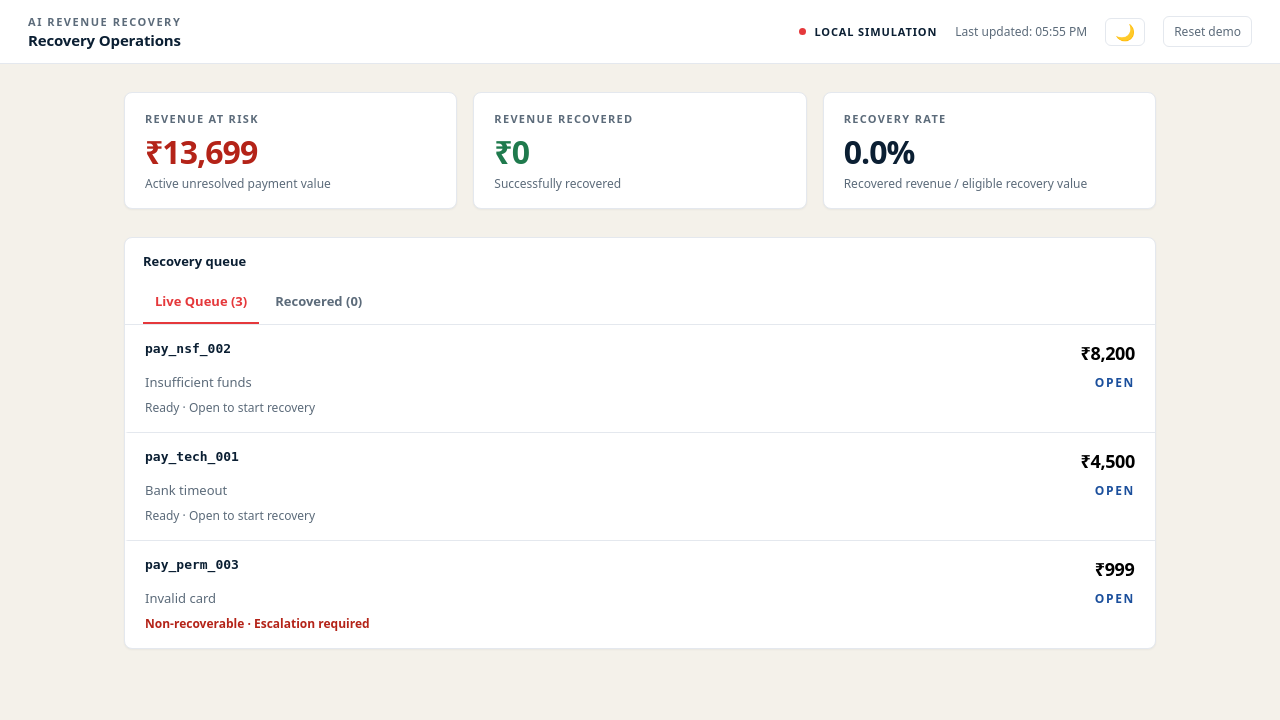
RecoveryQueuePage › opens a case workspace and runs recovery through the backend API
This screenshot has width=1280, height=720.
Expected: the text "pay_nsf_002" is shown, [145,341,231,356]
Click the button with aria-label "Open recovery case pay_nsf_002" at point(188, 349), box [125,325,1155,433]
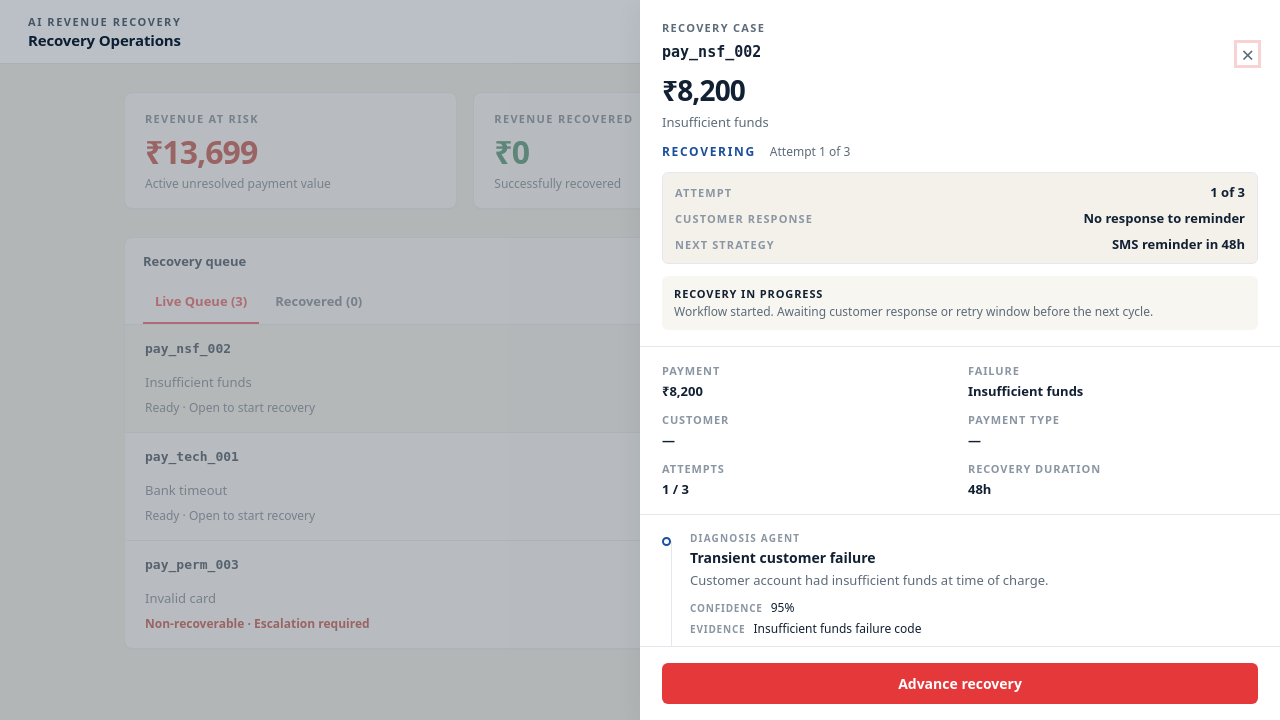
Expected: the text "₹8,200" below "Recovery case" is shown, [662,71,745,109]
Expected: the text "Insufficient funds" below "Recovery case" is shown, [662,113,769,131]
Expected: the text "Diagnosis agent" is shown, [690,531,800,545]
Click the button "Advance recovery" at point(960, 684), box [662,663,1258,704]
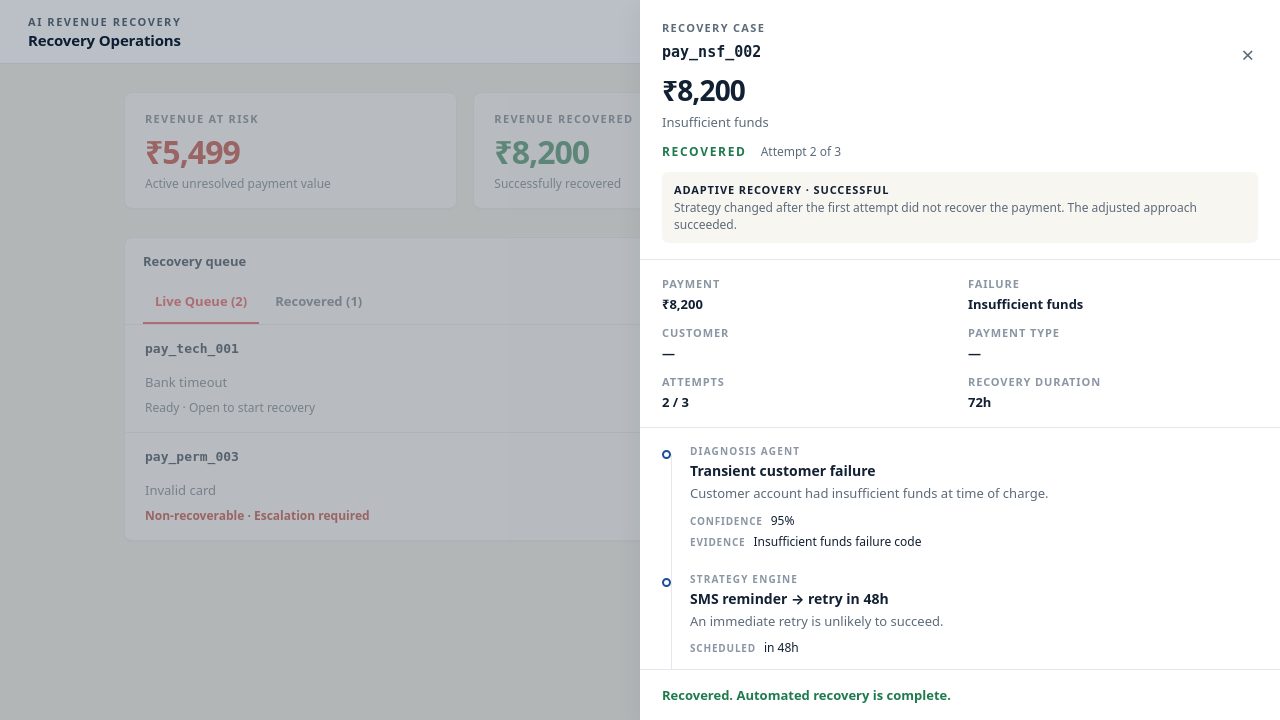
Expected: the text "Recovered. Automated recovery is complete." is shown, [662,686,951,704]
Expected: the button "Advance recovery" is gone
